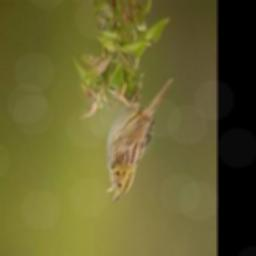Sparrow: (106, 75, 174, 205)
